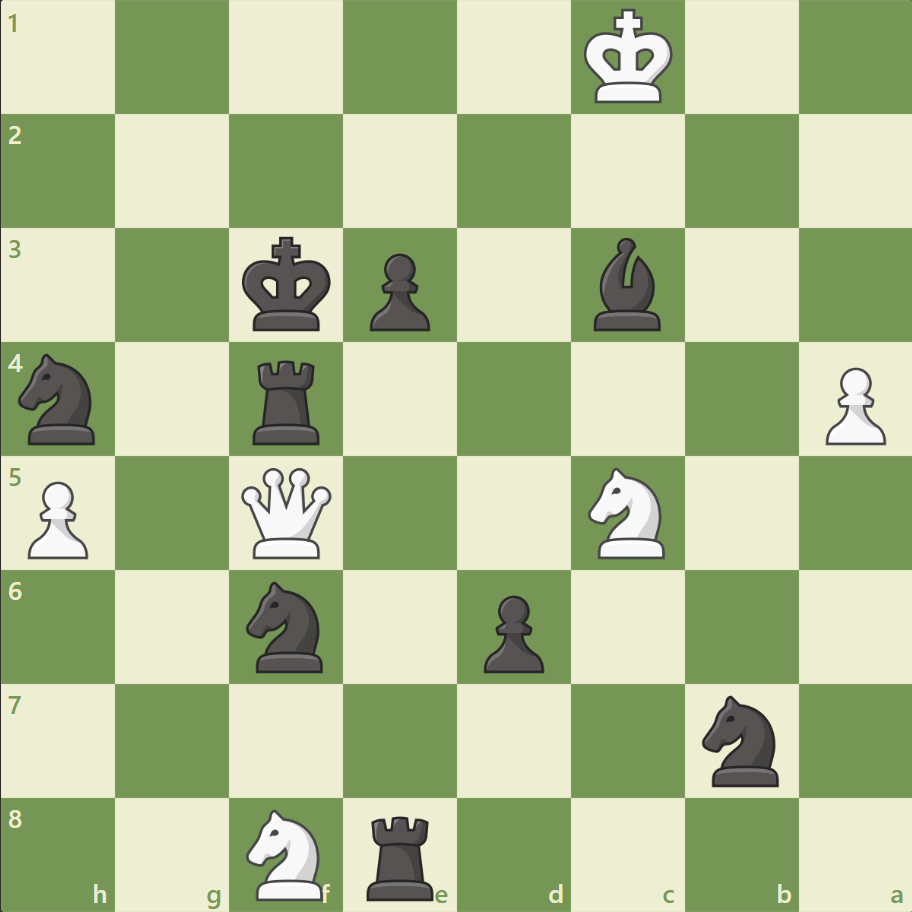K: (579, 4, 679, 112)
N: (579, 461, 676, 564), (238, 802, 335, 904)
P: (20, 473, 95, 564), (815, 359, 889, 450)
Q: (237, 463, 336, 562)
b: (585, 233, 669, 336)
k: (238, 231, 338, 339)
n: (692, 688, 789, 791), (238, 575, 335, 677), (11, 348, 108, 450)
p: (474, 586, 549, 677), (361, 246, 435, 337)
r: (246, 352, 329, 449), (360, 806, 442, 904)
